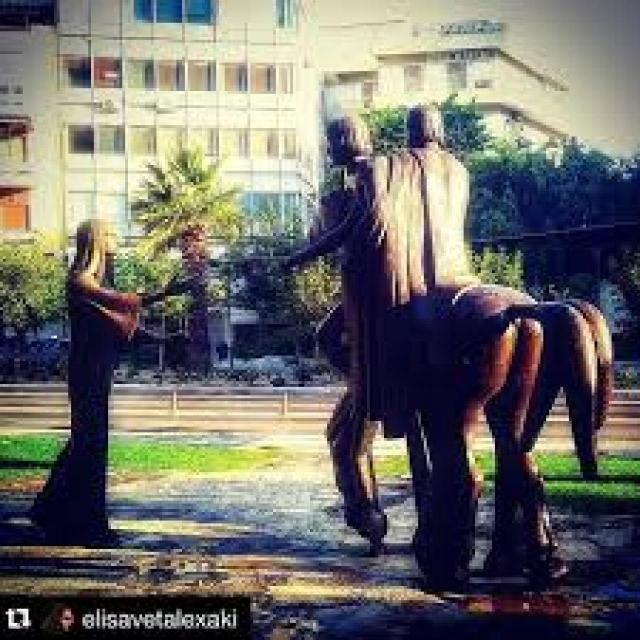Aretousa: (29, 102, 615, 582)
